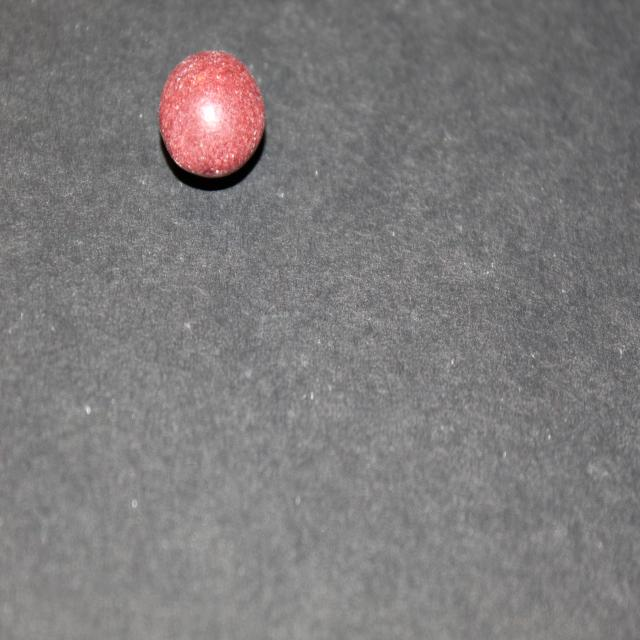smartie: (159, 51, 265, 180)
